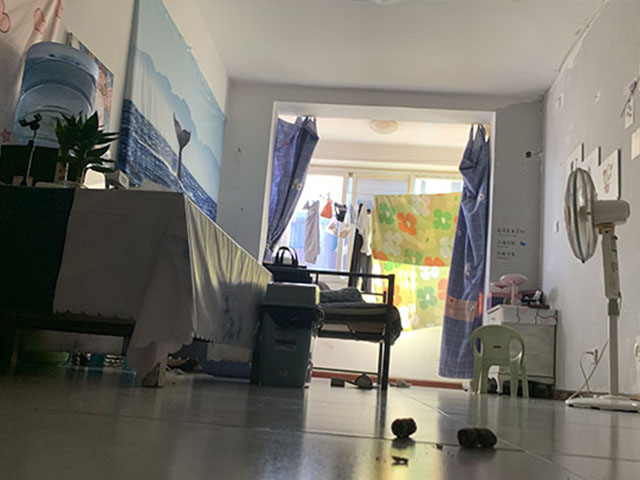curtain: (436, 120, 494, 380)
feces: (455, 425, 499, 451), (389, 416, 419, 440)
stool: (466, 321, 532, 397)
trashcan: (253, 278, 327, 391)
wire: (571, 346, 602, 399)
